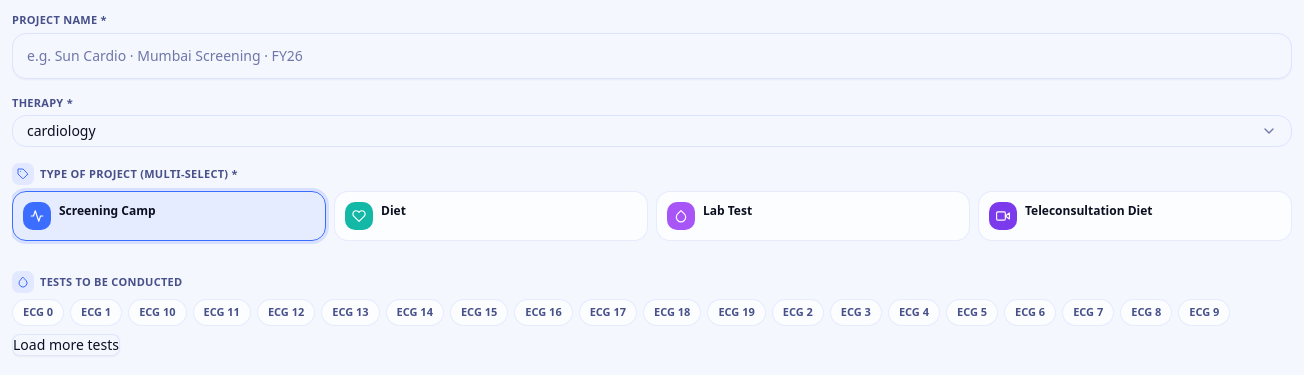
Test: WizardStep1 — therapy + project-type-filtered tests › shows a "Load more tests" button only when more pages exist, and loading more accumulates rather than replaces
This screenshot has width=1304, height=375.
Expected: the button "ECG 0" is shown, left=12, top=299, right=64, bottom=326
Click the button "Load more tests": (66, 344) left=12, top=334, right=120, bottom=356
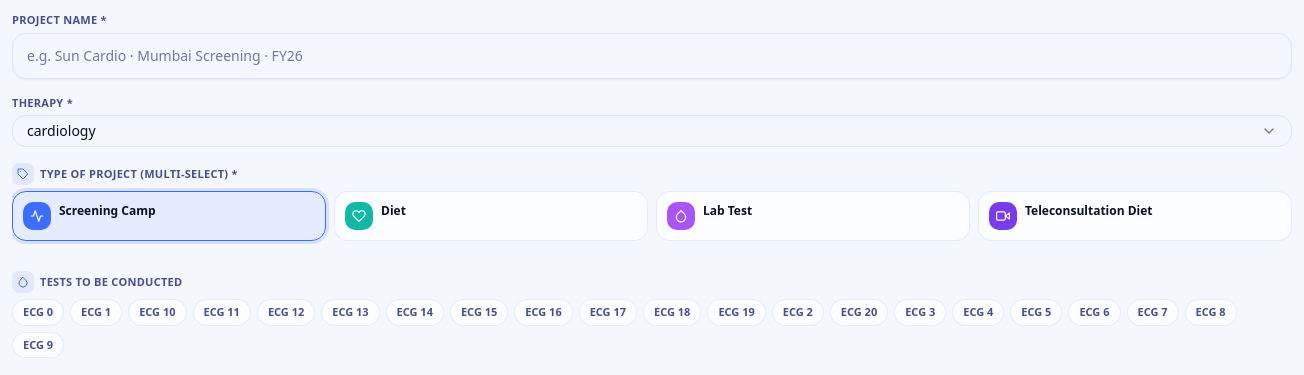
Expected: the button "ECG 0" is shown, left=12, top=299, right=64, bottom=326
Now the button "ECG 20" is shown, box left=830, top=299, right=888, bottom=326
